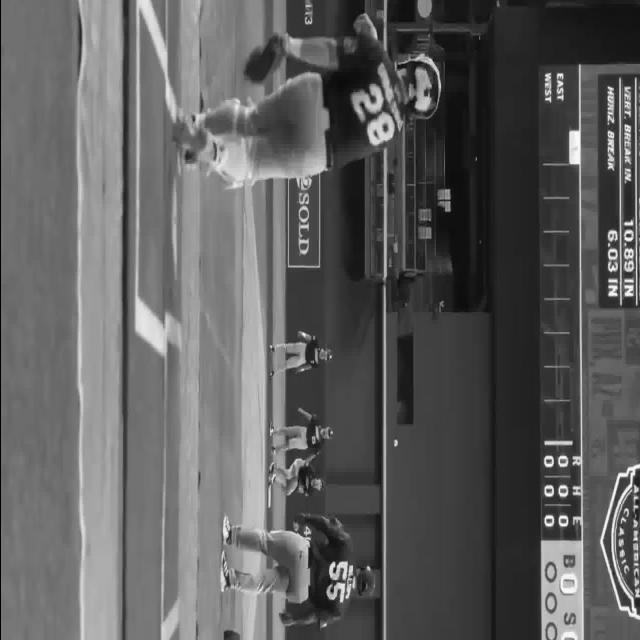base: (267, 467, 271, 515)
baseball: (393, 438, 397, 446)
baseball_glove: (242, 32, 288, 84)
shoe: (172, 122, 206, 152), (220, 550, 230, 592), (176, 110, 196, 130), (221, 514, 231, 544), (268, 462, 276, 472), (268, 472, 274, 484), (268, 368, 274, 378), (270, 445, 276, 455), (269, 421, 273, 435), (268, 344, 274, 352)
